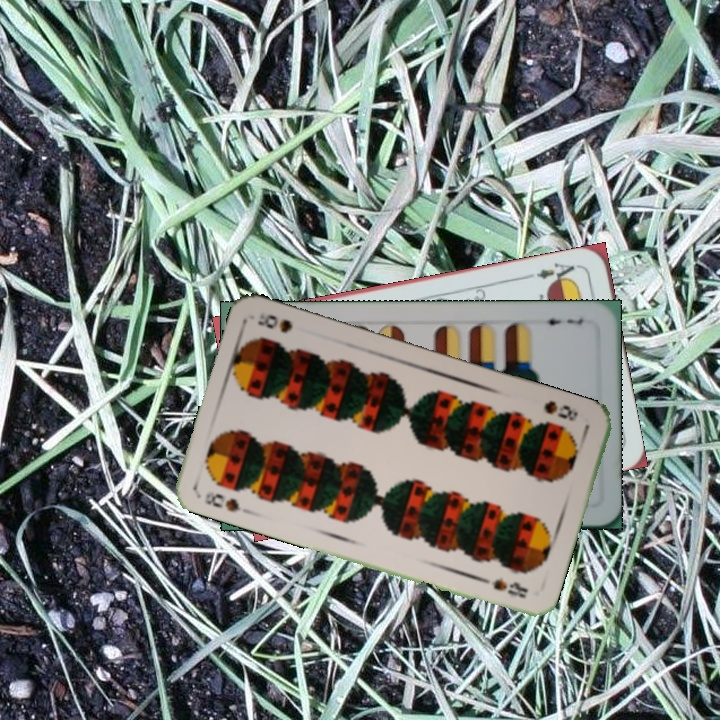E7: (535, 314, 585, 328)
EA: (532, 258, 583, 287)
S8: (200, 487, 244, 515), (540, 396, 581, 424)
